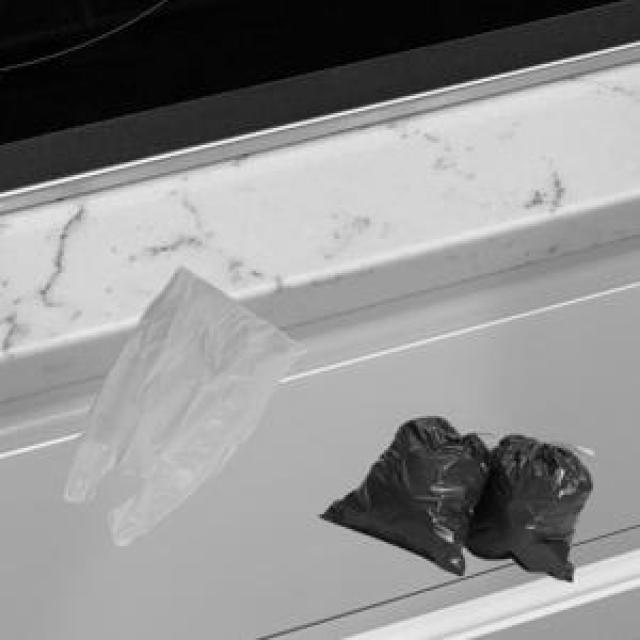miscellaneous trash: (318, 412, 591, 578)
